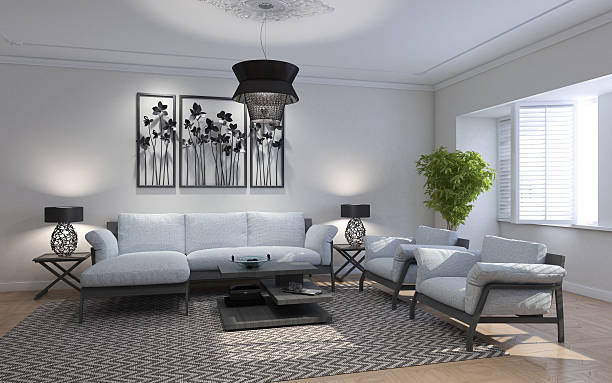chair: (408, 233, 568, 353), (359, 224, 470, 309)
large plant: (415, 143, 497, 228)
side table: (31, 253, 92, 301), (330, 242, 366, 286)
sofa: (76, 209, 340, 319)
table: (213, 257, 337, 333)
table lamp: (41, 202, 84, 258), (337, 200, 371, 248)
wall art: (177, 92, 248, 190), (133, 91, 177, 188), (248, 94, 285, 190)
